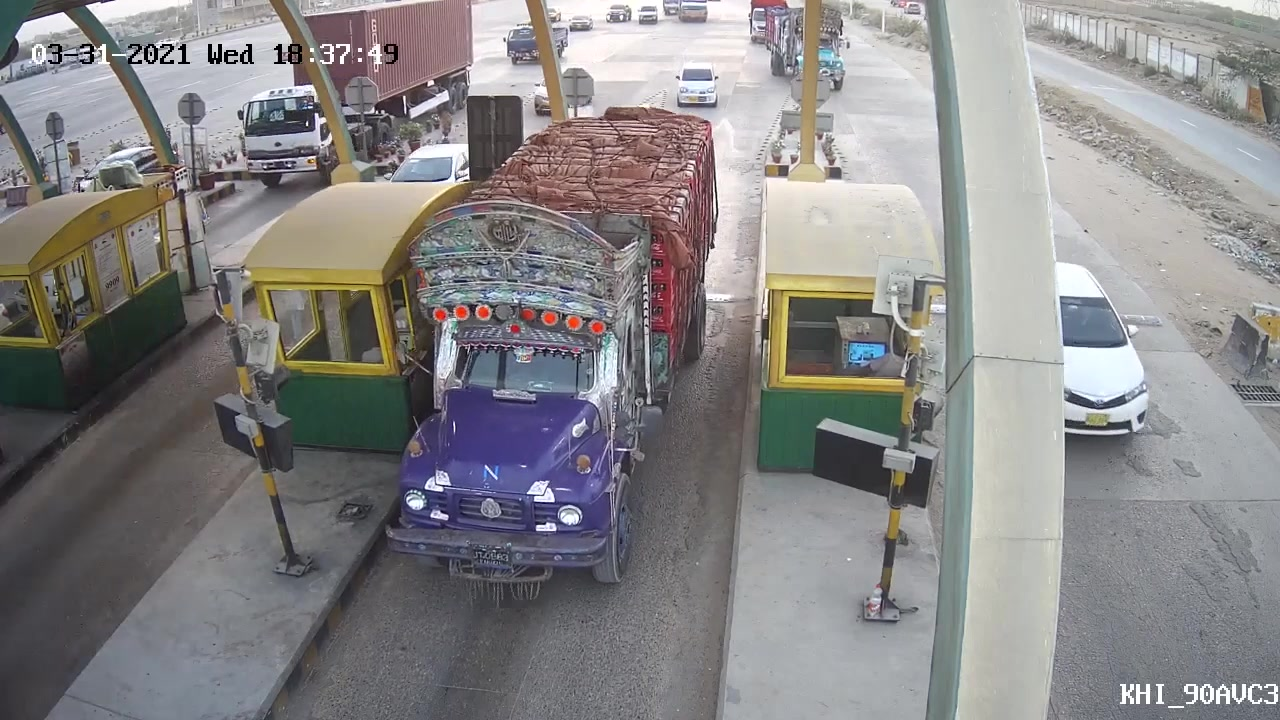F5: (375, 100, 728, 607)
